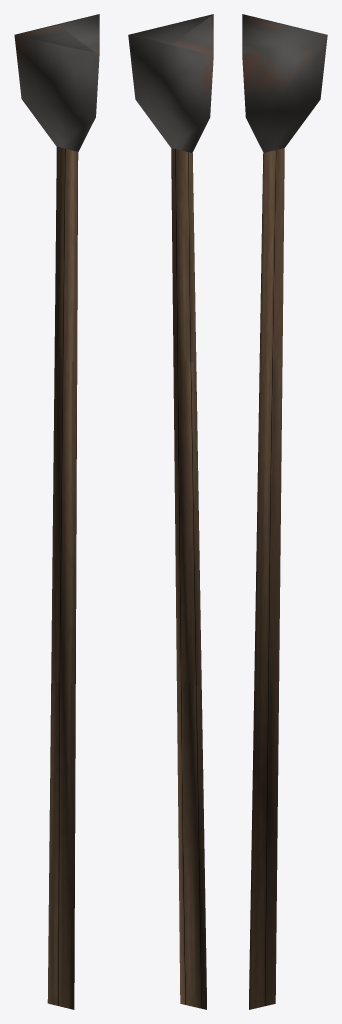
Rendered from Torch_Pole_1_LOD2.gltf.
The picture shows the model from 3 angles, left to right: view 1: azimuth 30°, elevation 25°; view 2: azimuth 150°, elevation 25°; view 3: azimuth 330°, elevation 25°; orthographic projection.
Parts seen in each view (by area): view 1: Torch_Pole_1_LOD2; view 2: Torch_Pole_1_LOD2; view 3: Torch_Pole_1_LOD2.
Boxes of the visible parts, x1,y1,x2,y2 form: Torch_Pole_1_LOD2: (14, 14, 99, 1009); Torch_Pole_1_LOD2: (128, 14, 213, 1009); Torch_Pole_1_LOD2: (242, 14, 327, 1009).
Size of the model in its own units: 0.2771 by 3 by 0.24.
3 materials, 3 textured.
